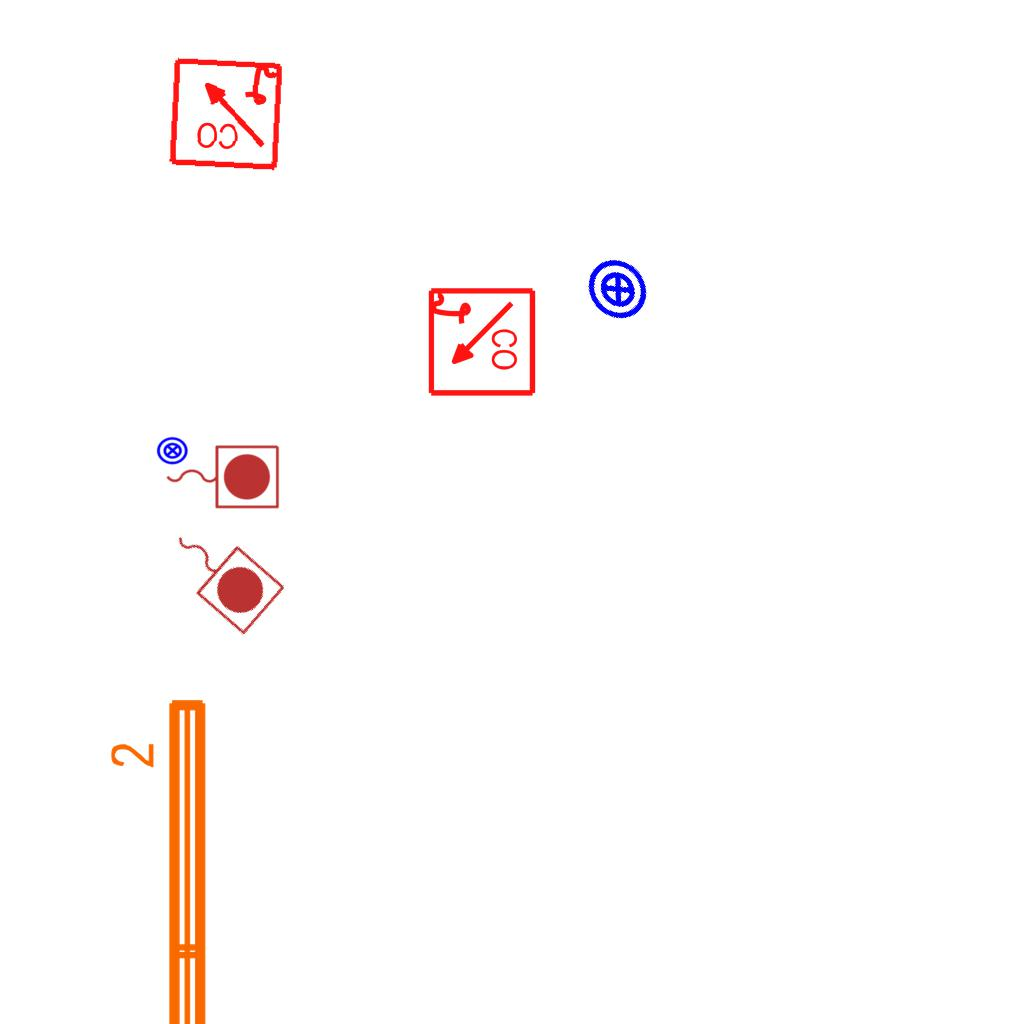Ambulanz_Pendelleuchte_LED: (106, 691, 218, 1024)
ROA_Rauchmelder_optisch_mit_Signalgeber_(Sockelsirene): (166, 53, 285, 172), (424, 286, 537, 399)
Taster_beleuchtet: (571, 242, 665, 336), (156, 434, 189, 467)
Zugtaster: (152, 505, 292, 641), (161, 440, 283, 512)
